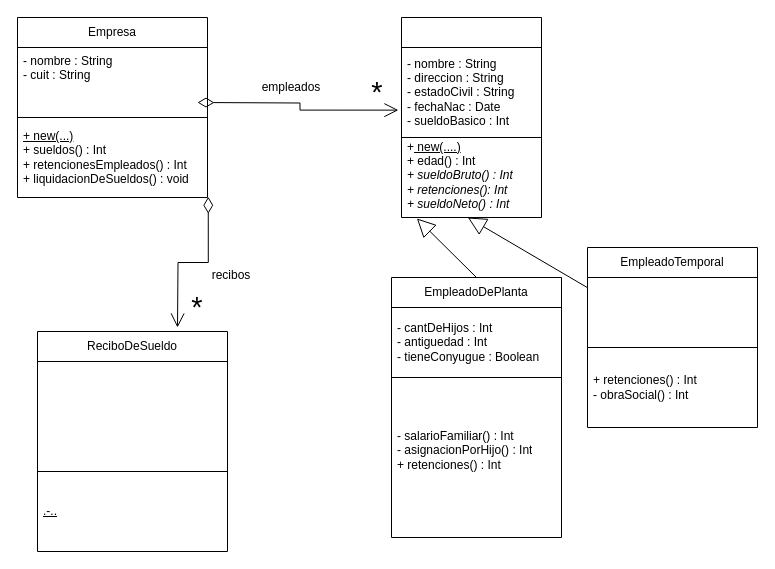
Some shapes in this 775 by 569 pixel diagram are drawn without their labels. Here are the shapes that lost their labels. From the top down, the box of each, then its label:
(400, 16, 542, 218): Empleado
(586, 276, 758, 348): - fechaFinDesignacion : Date - cantHorasExtras : Int
(36, 360, 228, 472): - nombreEmpleado : String - direccion : String - fechaEmision : Date
